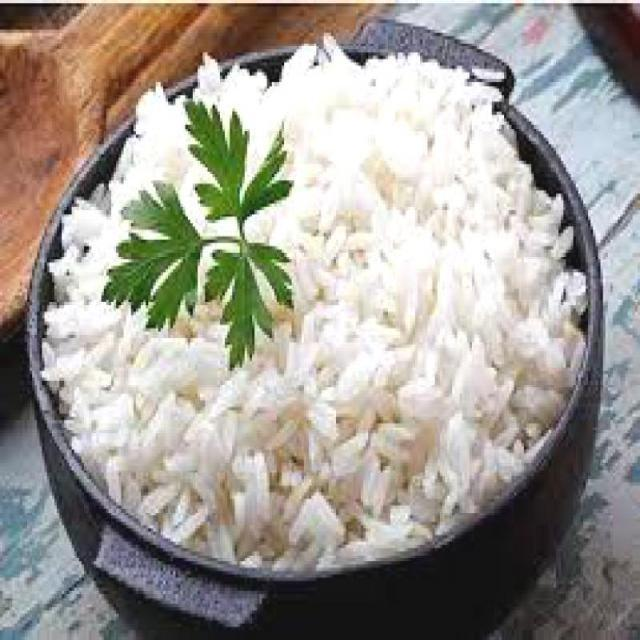Chicken -Chicken Inasal-: (43, 59, 575, 574)
